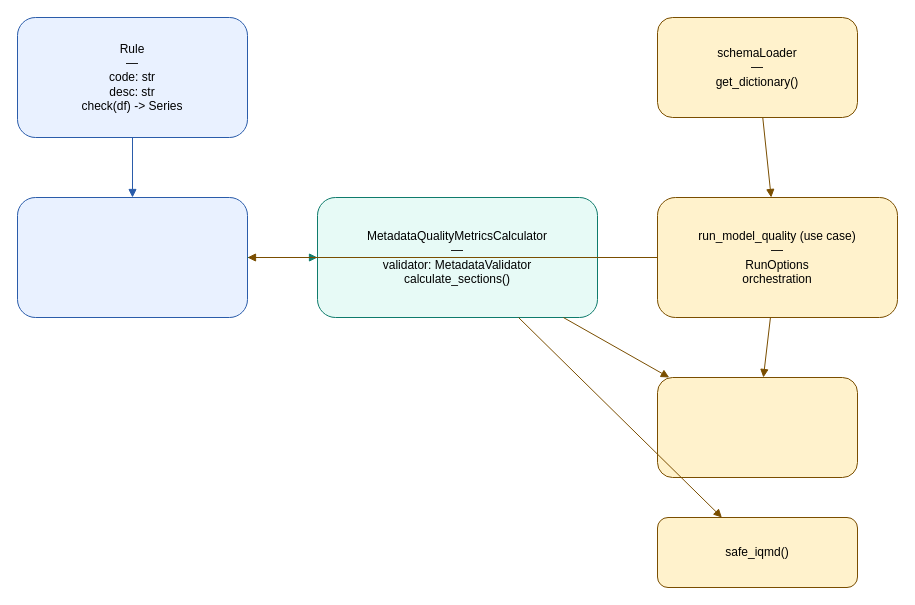
This 915x605 diagram has some shape labels left out. Each missing label, with the centre of its shape:
"MetadataValidator — df: DataFrame issues_df: DataFrame run_all()" goes at (132,257).
"save_excel_report build_section_df" goes at (757,427).
